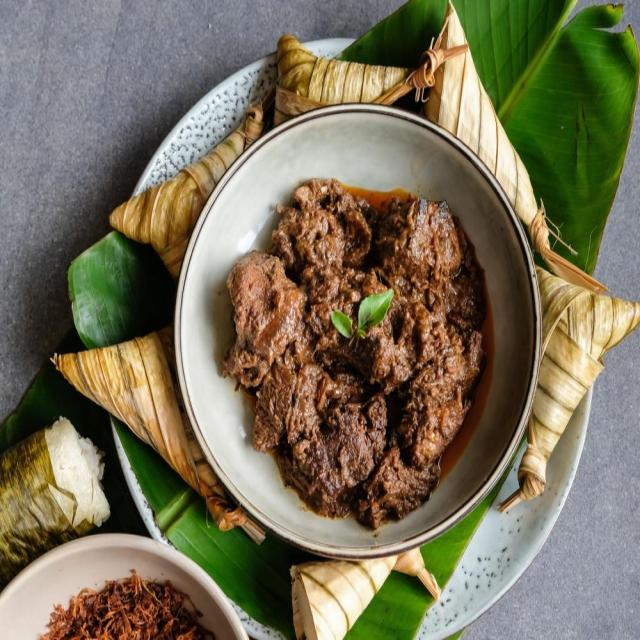Rendang: (201, 143, 502, 531)
